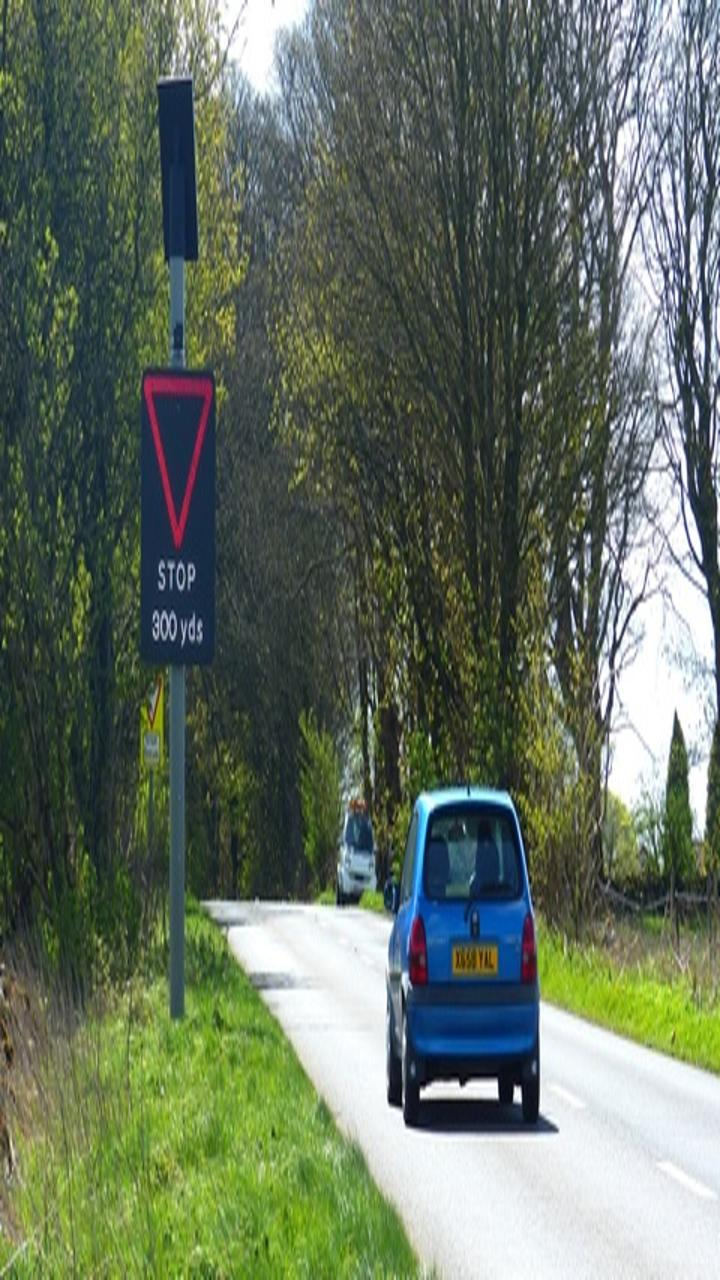Traffic sign: (107, 357, 271, 675)
vehicle: (383, 785, 563, 1144), (330, 776, 388, 932)
